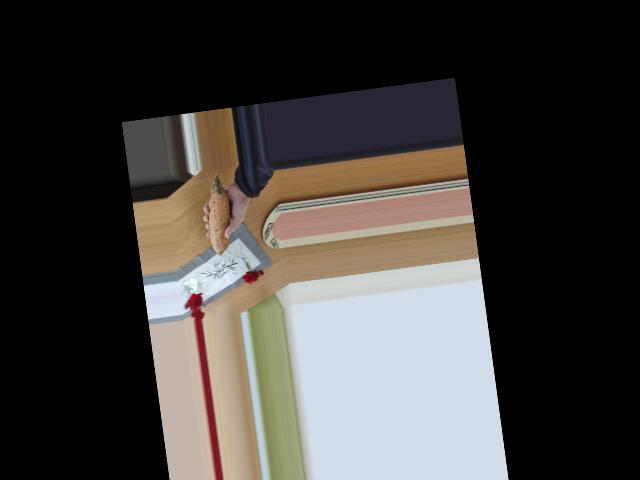sweet_potato: (199, 178, 243, 258)
